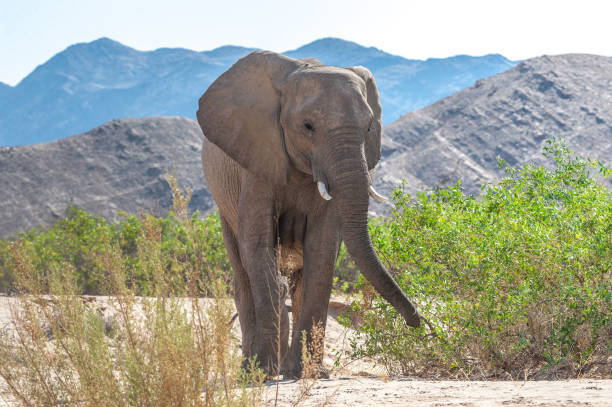africanelephant: (272, 68, 405, 241)
